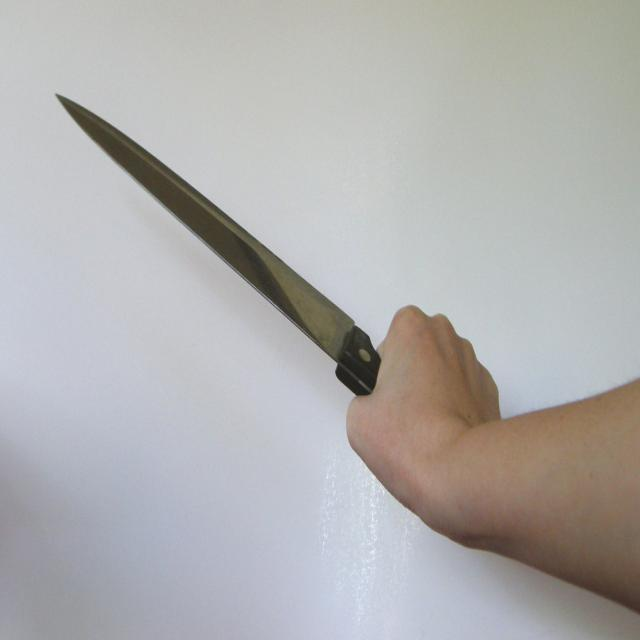knife: (51, 82, 364, 401)
